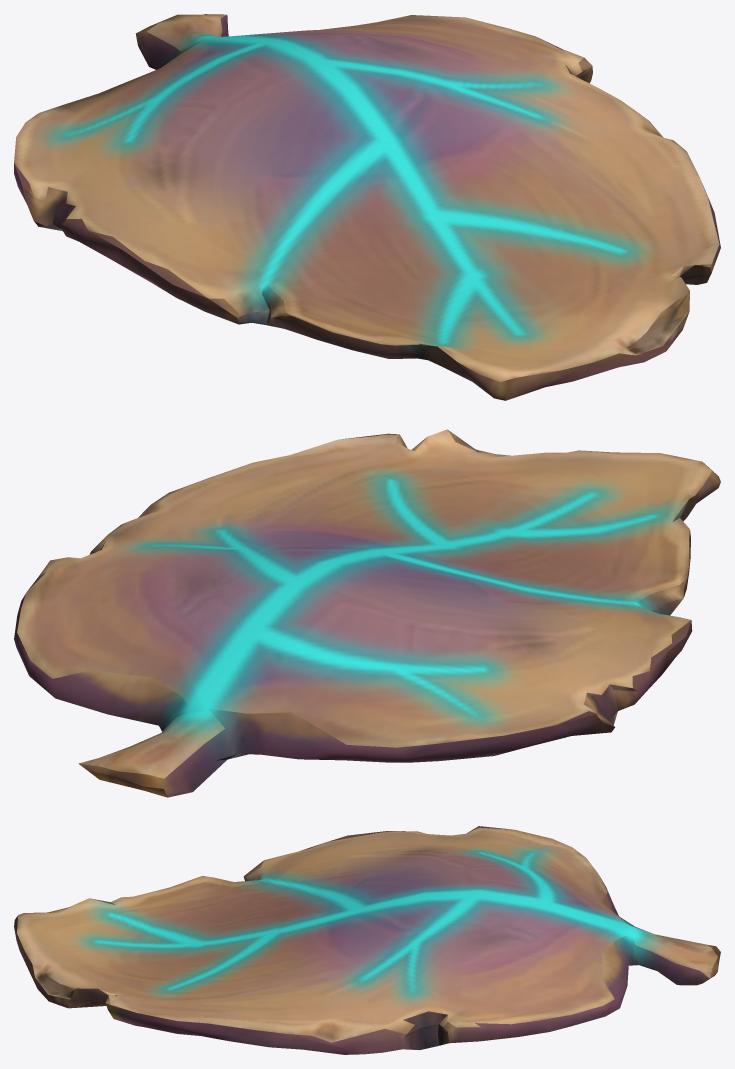
The model's file is trash_leaf.fbx.
The picture shows the model from 3 angles, top to bottom: view 1: azimuth 30°, elevation 25°; view 2: azimuth 150°, elevation 25°; view 3: azimuth 270°, elevation 25°; orthographic projection. The views are drawn at different scales.
Visible parts, largest first — view 1: trash_leaf; view 2: trash_leaf; view 3: trash_leaf.
Boxes of the visible parts, bbox=[...] form: trash_leaf: bbox=[14, 14, 720, 400]; trash_leaf: bbox=[14, 429, 720, 797]; trash_leaf: bbox=[14, 826, 720, 1054].
Bounding box in the file's own units: 0.1395 × 0.026 × 0.2.
